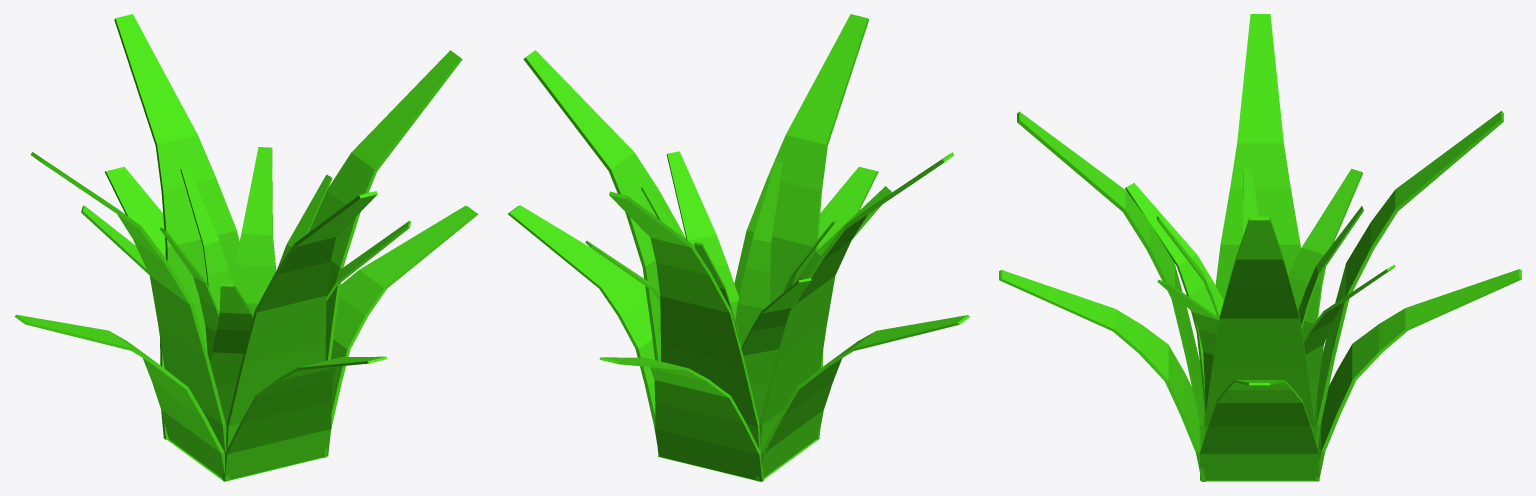
The model's file is Fern.gltf.
The picture shows the model from 3 angles, left to right: view 1: azimuth 30°, elevation 25°; view 2: azimuth 150°, elevation 25°; view 3: azimuth 270°, elevation 25°; orthographic projection.
Parts seen in each view (by area): view 1: Fern; view 2: Fern; view 3: Fern.
Boxes of the visible parts, left/top/right/bottom form: Fern: left=14, top=14, right=478, bottom=481; Fern: left=508, top=14, right=969, bottom=481; Fern: left=999, top=14, right=1521, bottom=481.
Bounding box in the file's own units: 81.73 × 59.13 × 82.11.
